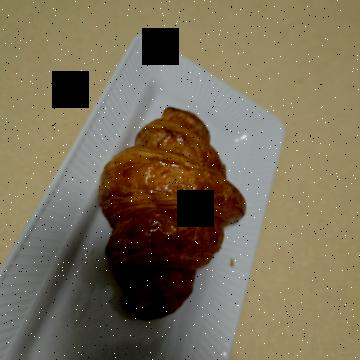croissant: (98, 107, 330, 270)
